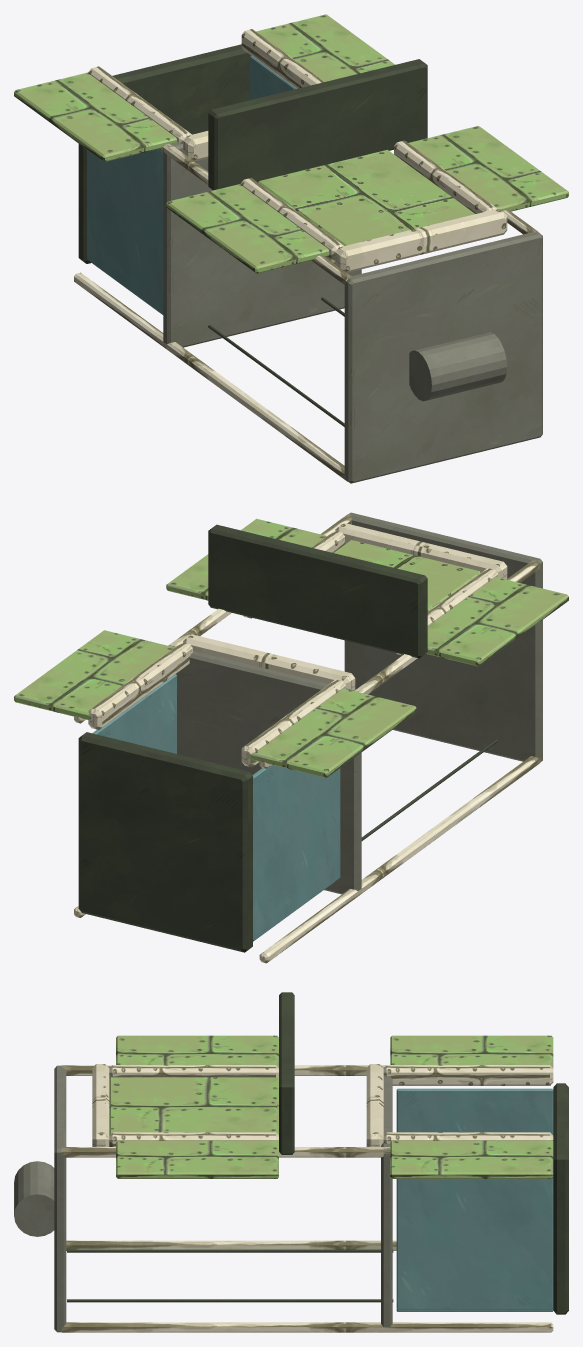
File: ECHO7_29_Ascensor_Carga.obj
3 renders of one model, top to bottom at view 1: azimuth 30°, elevation 25°; view 2: azimuth 150°, elevation 25°; view 3: azimuth 270°, elevation 25°, orthographic. The views are drawn at different scales.
Visible parts, largest first — view 1: ECHO7_29_Ascensor_Carga__Travesano_ascensor_02, ECHO7_29_Ascensor_Carga__Rellano_superior_ascensor_01, ECHO7_29_Ascensor_Carga__Travesano_ascensor_01, ECHO7_29_Ascensor_Carga__Compuerta_superior_cerrada_01, ECHO7_29_Ascensor_Carga__Costado_cabina_ascensor_01, ECHO7_29_Ascensor_Carga__Plataforma_ascensor_01, ECHO7_29_Ascensor_Carga__Hoja_puerta_aparcada_03, ECHO7_29_Ascensor_Carga__Hoja_puerta_aparcada_01, ECHO7_29_Ascensor_Carga__Hoja_puerta_aparcada_04, ECHO7_29_Ascensor_Carga__Motor_ascensor_01, ECHO7_29_Ascensor_Carga__Hoja_puerta_aparcada_02, ECHO7_29_Ascensor_Carga__Dintel_puerta_02 (+9 smaller); view 2: ECHO7_29_Ascensor_Carga__Plataforma_ascensor_01, ECHO7_29_Ascensor_Carga__Rellano_superior_ascensor_01, ECHO7_29_Ascensor_Carga__Travesano_ascensor_02, ECHO7_29_Ascensor_Carga__Travesano_ascensor_01, ECHO7_29_Ascensor_Carga__Costado_cabina_ascensor_01, ECHO7_29_Ascensor_Carga__Hoja_puerta_aparcada_01, ECHO7_29_Ascensor_Carga__Hoja_puerta_aparcada_03, ECHO7_29_Ascensor_Carga__Hoja_puerta_aparcada_02, ECHO7_29_Ascensor_Carga__Guia_ascensor_01, ECHO7_29_Ascensor_Carga__Costado_cabina_ascensor_02, ECHO7_29_Ascensor_Carga__Compuerta_superior_cerrada_01, ECHO7_29_Ascensor_Carga__Dintel_puerta_01 (+8 smaller); view 3: ECHO7_29_Ascensor_Carga__Costado_cabina_ascensor_02, ECHO7_29_Ascensor_Carga__Compuerta_superior_cerrada_01, ECHO7_29_Ascensor_Carga__Costado_cabina_ascensor_01, ECHO7_29_Ascensor_Carga__Hoja_puerta_aparcada_02, ECHO7_29_Ascensor_Carga__Hoja_puerta_aparcada_04, ECHO7_29_Ascensor_Carga__Guia_ascensor_03, ECHO7_29_Ascensor_Carga__Hoja_puerta_aparcada_01, ECHO7_29_Ascensor_Carga__Hoja_puerta_aparcada_03, ECHO7_29_Ascensor_Carga__Plataforma_ascensor_01, ECHO7_29_Ascensor_Carga__Jamba_puerta_01, ECHO7_29_Ascensor_Carga__Travesano_ascensor_02, ECHO7_29_Ascensor_Carga__Guia_ascensor_01 (+13 smaller).
Part boxes in pixels (x1,y1,x2,y2): ECHO7_29_Ascensor_Carga__Travesano_ascensor_02: [344, 231, 542, 483]; ECHO7_29_Ascensor_Carga__Rellano_superior_ascensor_01: [208, 59, 427, 190]; ECHO7_29_Ascensor_Carga__Travesano_ascensor_01: [163, 142, 361, 347]; ECHO7_29_Ascensor_Carga__Compuerta_superior_cerrada_01: [258, 149, 474, 245]; ECHO7_29_Ascensor_Carga__Costado_cabina_ascensor_01: [87, 149, 163, 314]; ECHO7_29_Ascensor_Carga__Plataforma_ascensor_01: [78, 44, 251, 263]; ECHO7_29_Ascensor_Carga__Hoja_puerta_aparcada_03: [166, 184, 329, 273]; ECHO7_29_Ascensor_Carga__Hoja_puerta_aparcada_01: [14, 72, 176, 162]; ECHO7_29_Ascensor_Carga__Hoja_puerta_aparcada_04: [408, 125, 568, 211]; ECHO7_29_Ascensor_Carga__Motor_ascensor_01: [409, 332, 507, 401]; ECHO7_29_Ascensor_Carga__Hoja_puerta_aparcada_02: [256, 14, 394, 81]; ECHO7_29_Ascensor_Carga__Dintel_puerta_02: [335, 208, 507, 272]; ECHO7_29_Ascensor_Carga__Plataforma_ascensor_01: [78, 732, 252, 952]; ECHO7_29_Ascensor_Carga__Rellano_superior_ascensor_01: [208, 524, 427, 658]; ECHO7_29_Ascensor_Carga__Travesano_ascensor_02: [344, 512, 542, 762]; ECHO7_29_Ascensor_Carga__Travesano_ascensor_01: [169, 645, 361, 894]; ECHO7_29_Ascensor_Carga__Costado_cabina_ascensor_01: [252, 765, 340, 940]; ECHO7_29_Ascensor_Carga__Hoja_puerta_aparcada_01: [248, 688, 416, 777]; ECHO7_29_Ascensor_Carga__Hoja_puerta_aparcada_03: [426, 577, 568, 666]; ECHO7_29_Ascensor_Carga__Hoja_puerta_aparcada_02: [14, 630, 174, 719]; ECHO7_29_Ascensor_Carga__Guia_ascensor_01: [259, 756, 540, 963]; ECHO7_29_Ascensor_Carga__Costado_cabina_ascensor_02: [92, 674, 176, 753]; ECHO7_29_Ascensor_Carga__Compuerta_superior_cerrada_01: [334, 540, 480, 611]; ECHO7_29_Ascensor_Carga__Dintel_puerta_01: [183, 634, 355, 690]; ECHO7_29_Ascensor_Carga__Costado_cabina_ascensor_02: [396, 1177, 553, 1309]; ECHO7_29_Ascensor_Carga__Compuerta_superior_cerrada_01: [109, 1077, 278, 1135]; ECHO7_29_Ascensor_Carga__Costado_cabina_ascensor_01: [396, 1088, 553, 1135]; ECHO7_29_Ascensor_Carga__Hoja_puerta_aparcada_02: [390, 1140, 553, 1178]; ECHO7_29_Ascensor_Carga__Hoja_puerta_aparcada_04: [116, 1140, 278, 1178]; ECHO7_29_Ascensor_Carga__Guia_ascensor_03: [61, 1322, 553, 1332]; ECHO7_29_Ascensor_Carga__Hoja_puerta_aparcada_01: [390, 1035, 553, 1067]; ECHO7_29_Ascensor_Carga__Hoja_puerta_aparcada_03: [116, 1035, 278, 1067]; ECHO7_29_Ascensor_Carga__Plataforma_ascensor_01: [553, 1083, 568, 1314]; ECHO7_29_Ascensor_Carga__Jamba_puerta_01: [383, 1065, 553, 1085]; ECHO7_29_Ascensor_Carga__Travesano_ascensor_02: [54, 1065, 66, 1332]; ECHO7_29_Ascensor_Carga__Guia_ascensor_01: [66, 1240, 396, 1250].
Size of the model in its own units: 5 by 4.27 by 8.5.
Materials: 6 (6 with a texture image).
